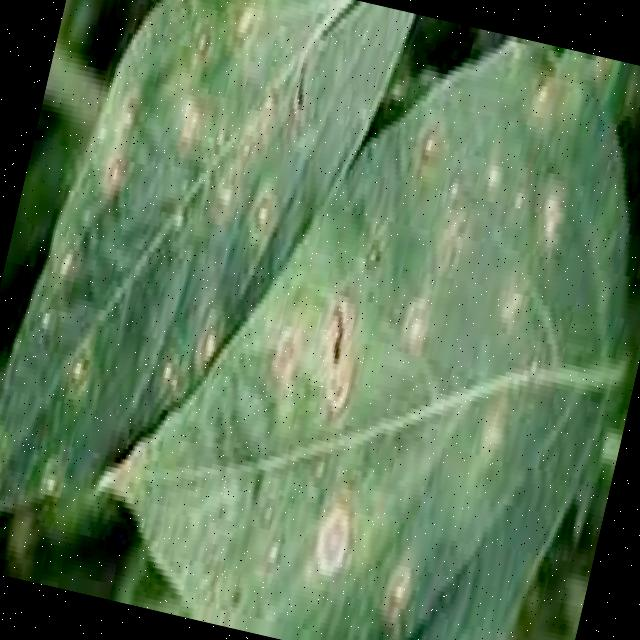leaf spot: (0, 0, 417, 607)
